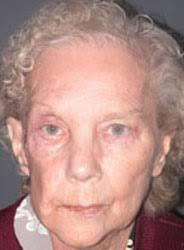normalMouth: (56, 199, 115, 217)
